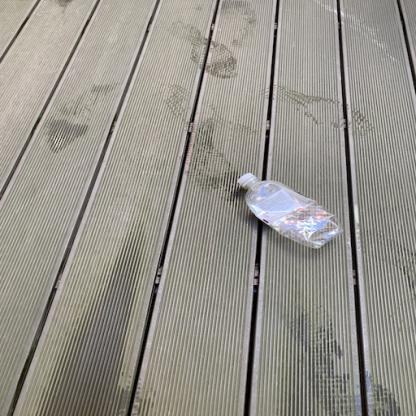plastic-bottles: (233, 163, 346, 257)
